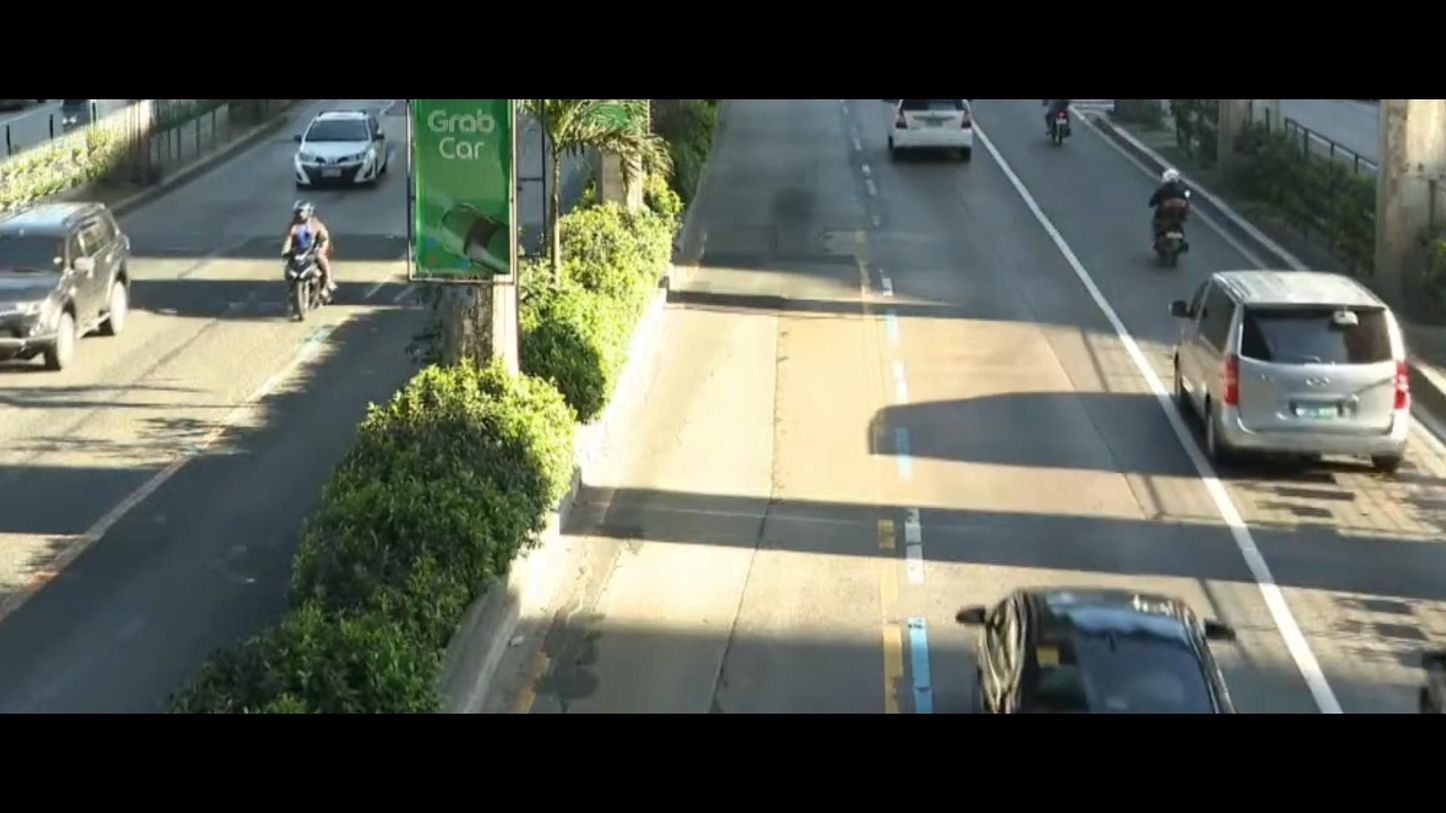Motorcycle: (268, 187, 343, 330), (1138, 162, 1207, 280), (1036, 94, 1081, 139)
SUV: (0, 190, 155, 375), (283, 102, 403, 193)
Sedan: (947, 548, 1239, 720)
Van: (1143, 239, 1445, 503)
